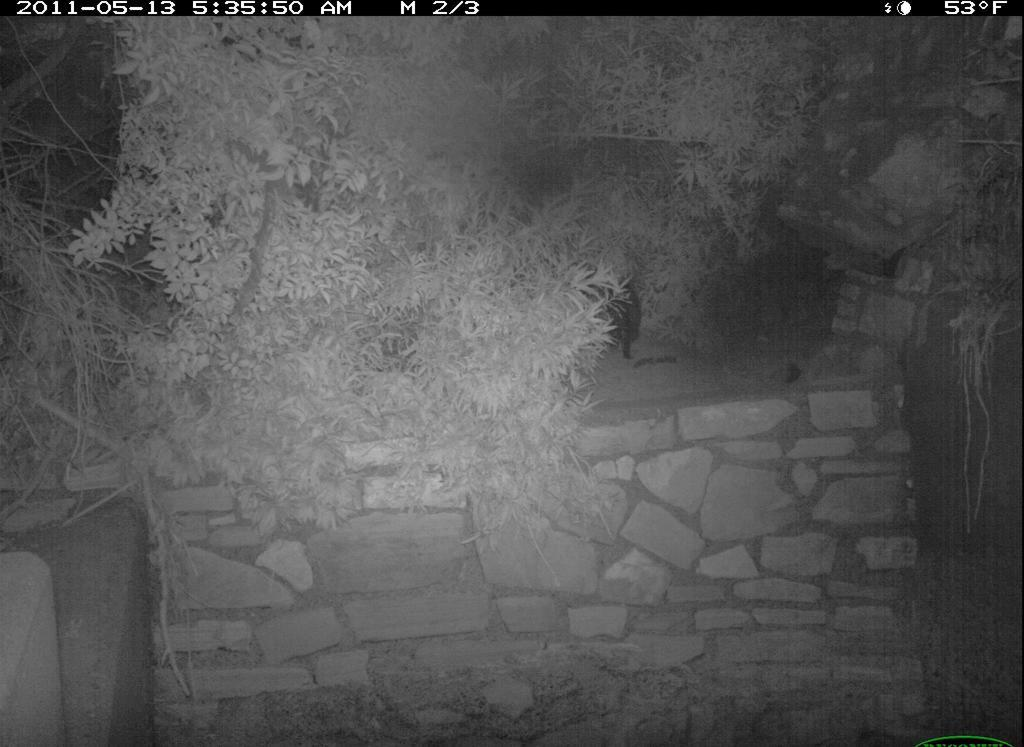cat: (577, 250, 666, 395)
